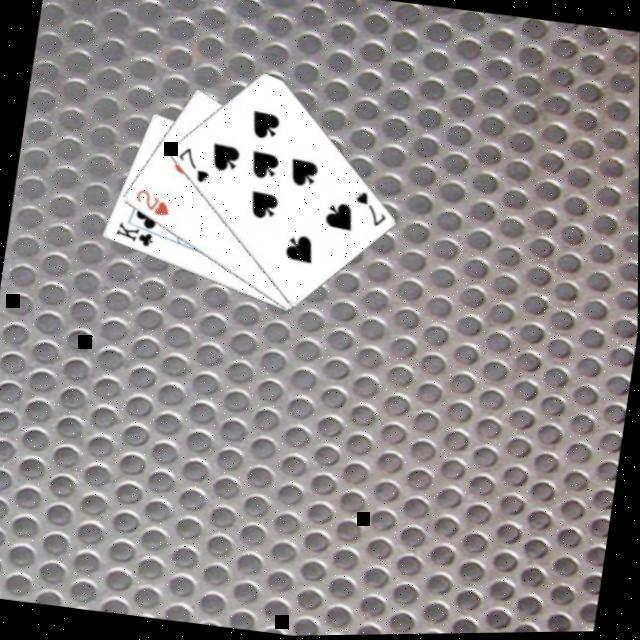2H: (132, 184, 176, 220)
7S: (172, 142, 217, 186), (351, 187, 394, 231)
KC: (111, 214, 166, 252)
